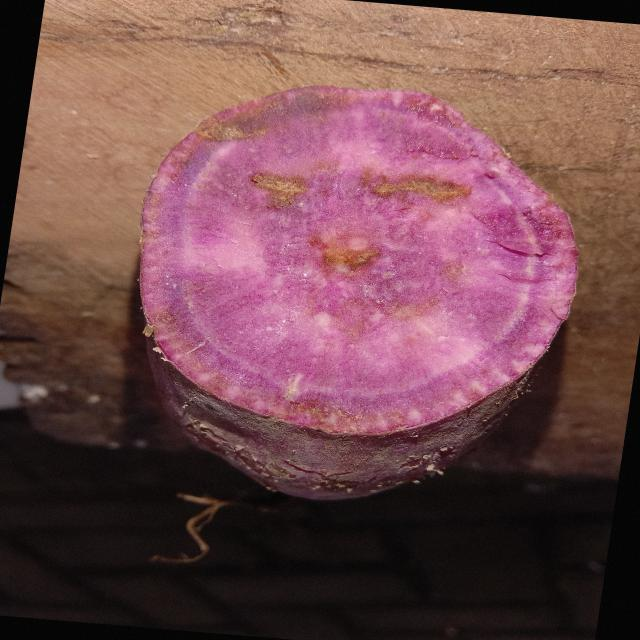Sick Sweet Potato_Tuber Rot: (142, 86, 577, 432)
